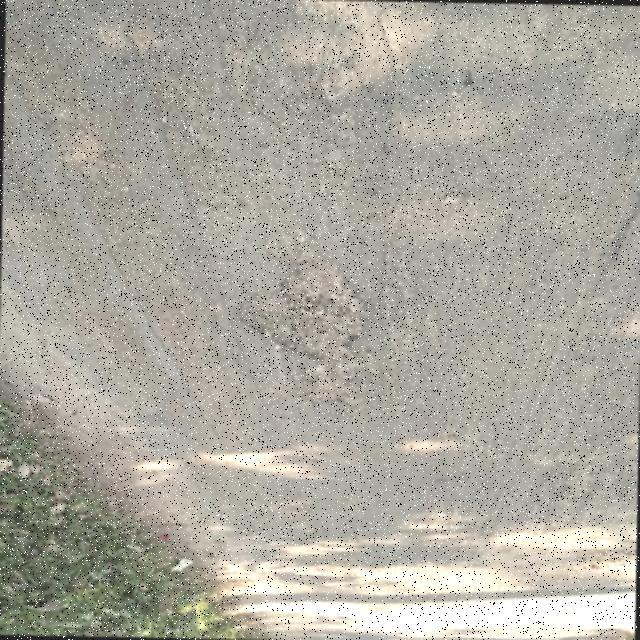Pothole: (236, 248, 384, 409)
